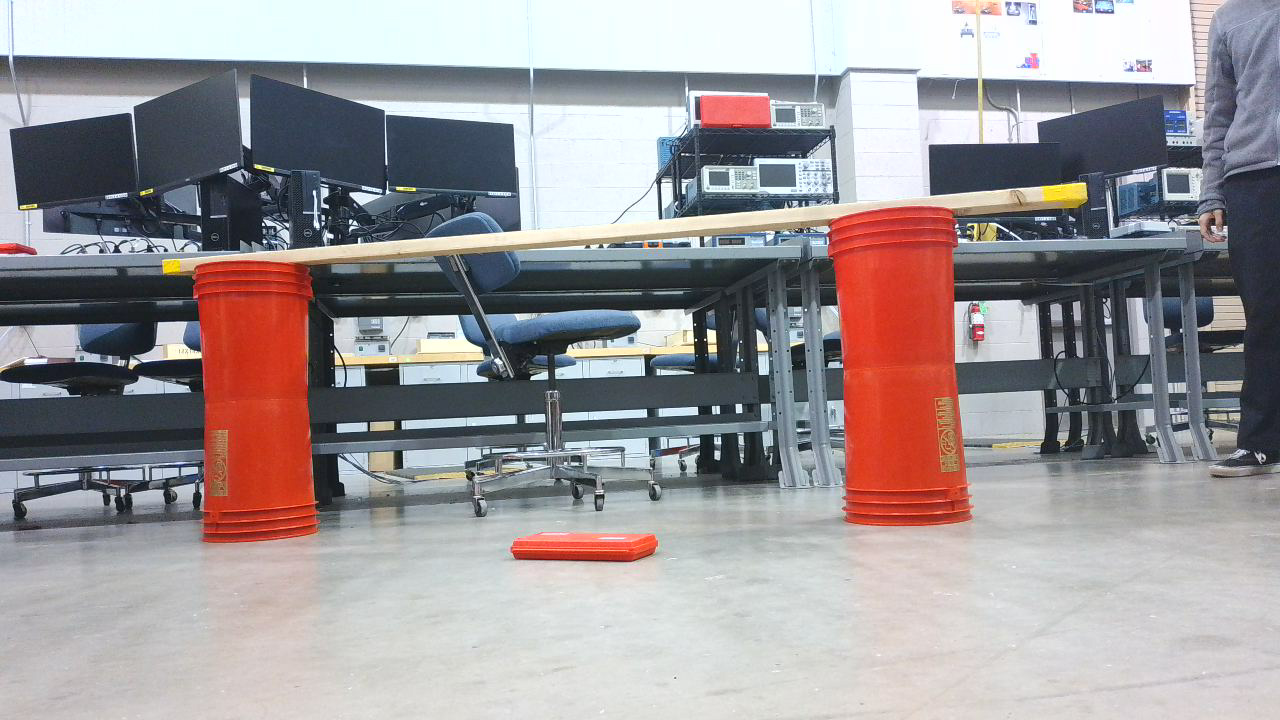red_bucket_arch: (190, 188, 983, 554)
